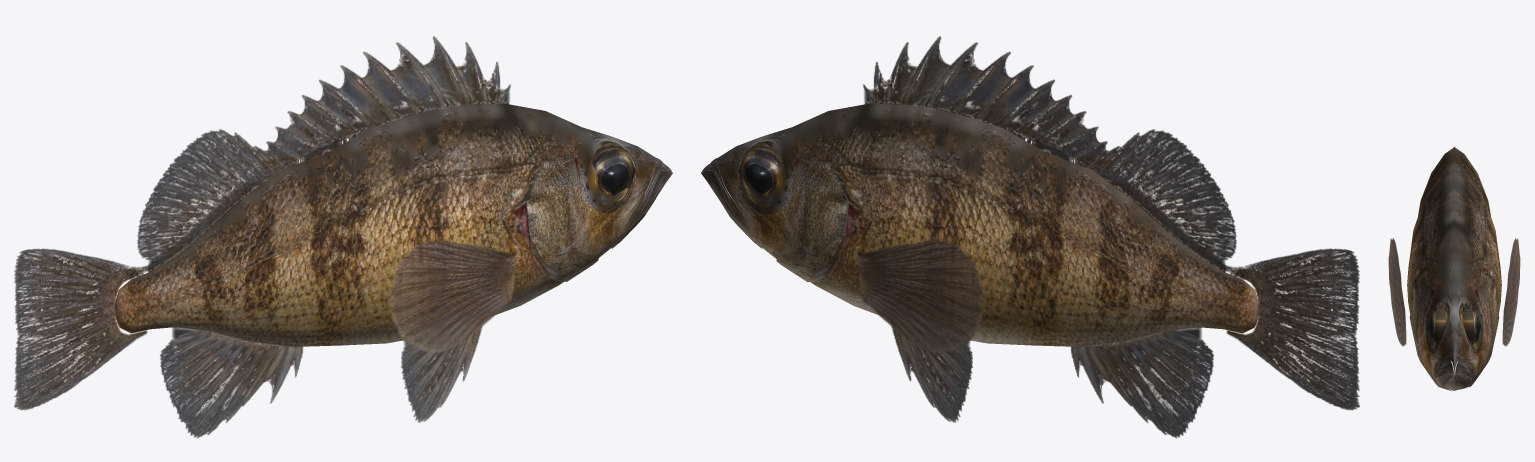
Rendered from mebaru_lo.glb.
The picture shows the model from 3 angles, left to right: view 1: azimuth 30°, elevation 25°; view 2: azimuth 150°, elevation 25°; view 3: azimuth 270°, elevation 25°; orthographic projection. The views are drawn at different scales.
Parts seen in each view (by area): view 1: mebaru; view 2: mebaru; view 3: mebaru.
Part boxes in pixels (box(x1,y1,x2,y2)): mebaru: box(14, 36, 672, 438); mebaru: box(701, 36, 1359, 438); mebaru: box(1388, 147, 1520, 391).
Bounding box in the file's own units: 0.2206 × 0.1238 × 0.0492.
1 material, 1 textured.
